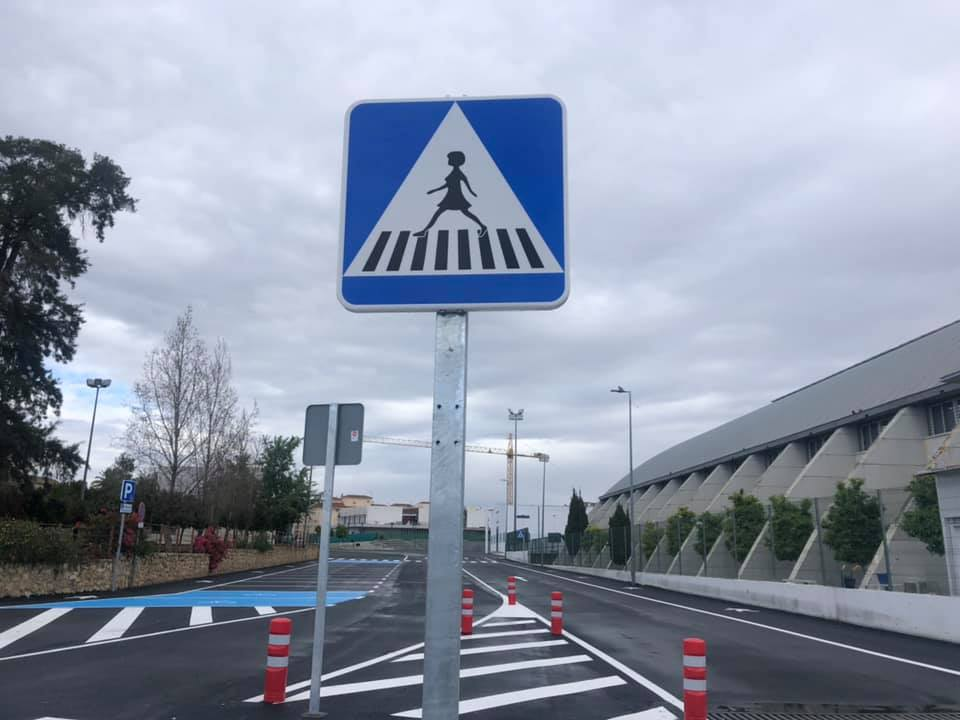Cartel: (337, 97, 570, 307), (297, 399, 362, 470)
Poste: (419, 310, 464, 720), (312, 405, 338, 716)
